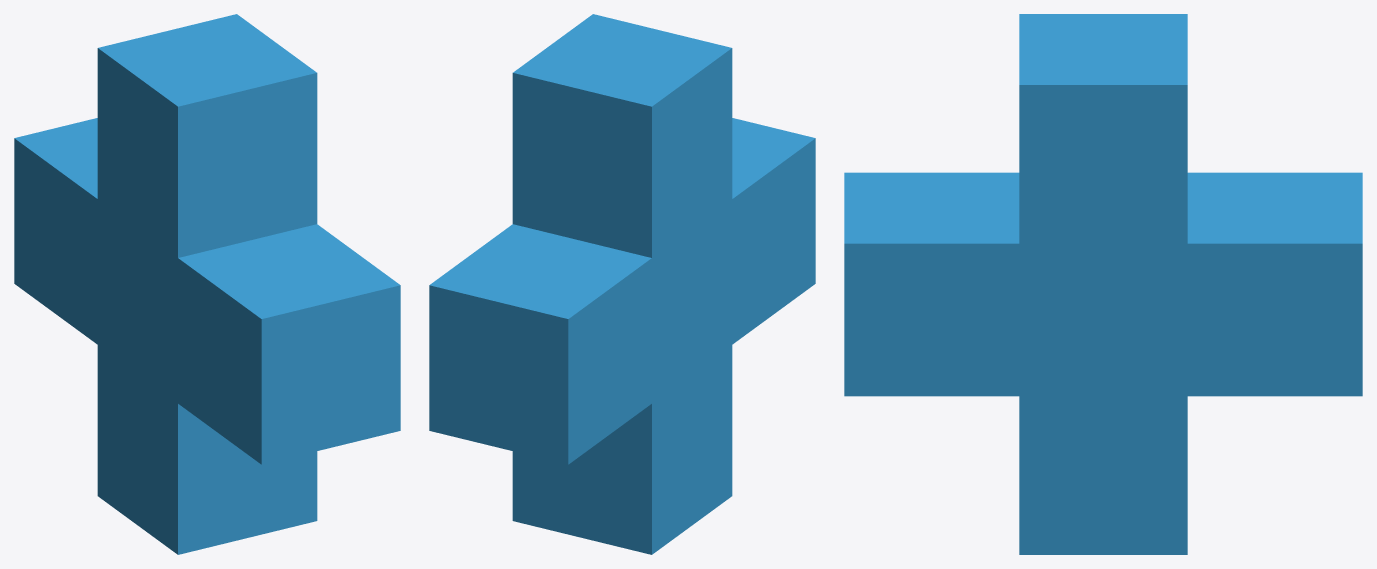
The model's file is Medic.fbx.
3 renders of one model, left to right at view 1: azimuth 30°, elevation 25°; view 2: azimuth 150°, elevation 25°; view 3: azimuth 270°, elevation 25°, orthographic. The views are drawn at different scales.
Parts seen in each view (by area): view 1: Cube; view 2: Cube; view 3: Cube.
Part boxes in pixels (x1,y1,x2,y2): Cube: (14,14,400,554); Cube: (429,14,815,554); Cube: (844,14,1362,554).
Size of the model in its own units: 77.53 by 239 by 239.
